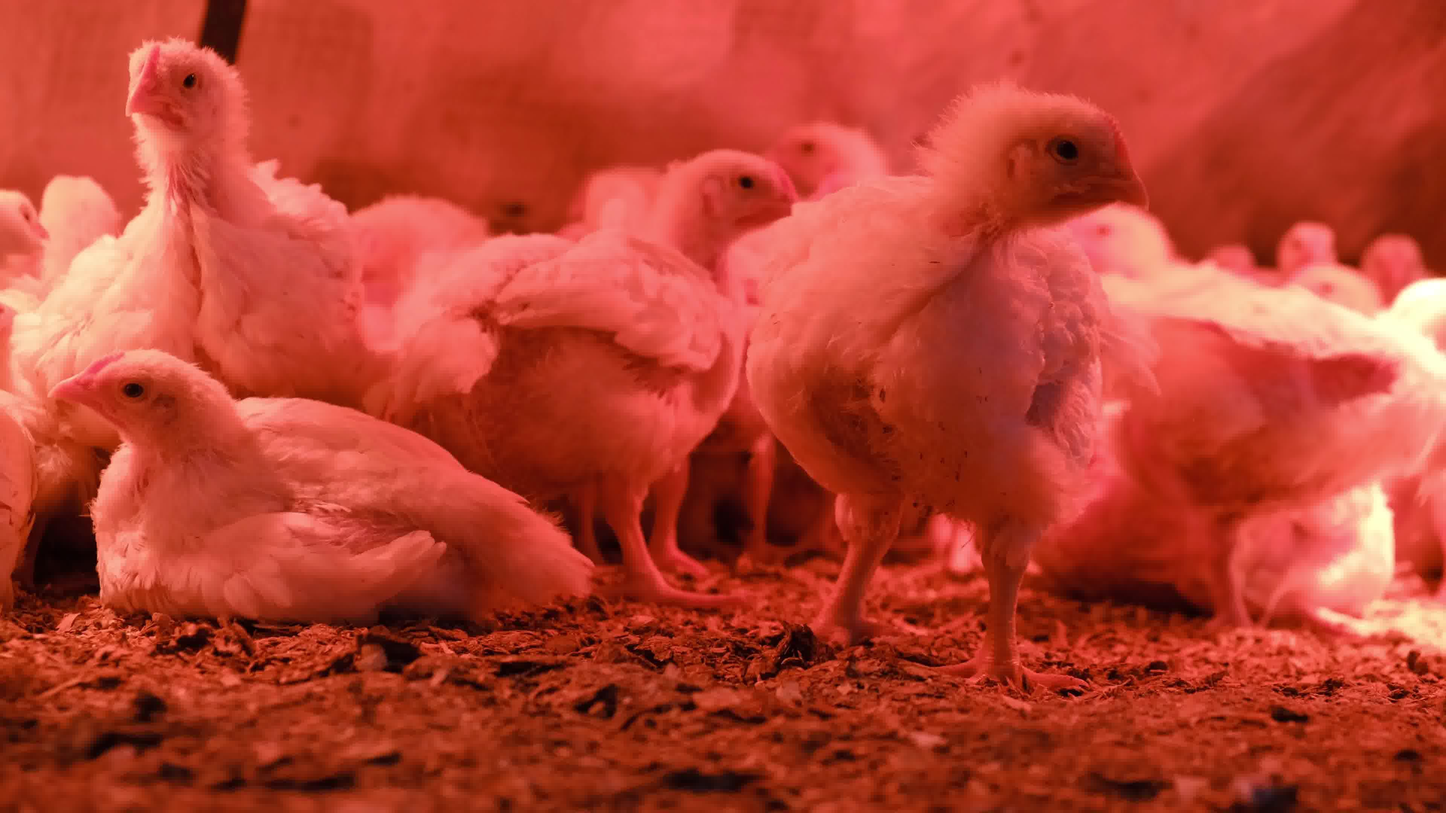AbNormal: (49, 348, 599, 620), (1102, 467, 1405, 625)
Normal: (745, 83, 1153, 700), (396, 143, 810, 605), (1082, 271, 1446, 640), (21, 38, 360, 407), (757, 113, 895, 210), (43, 174, 128, 283), (0, 181, 44, 292), (1271, 214, 1341, 264), (1132, 204, 1171, 259)
